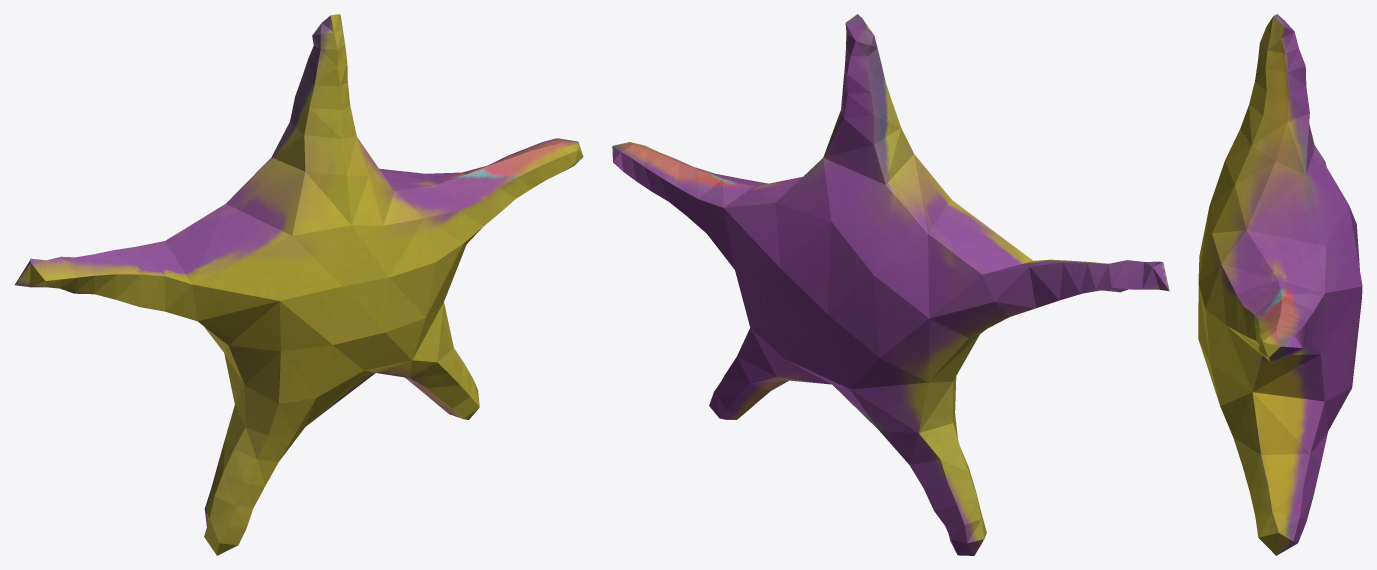
The model's file is Star_001.fbx.
The picture shows the model from 3 angles, left to right: view 1: azimuth 30°, elevation 25°; view 2: azimuth 150°, elevation 25°; view 3: azimuth 270°, elevation 25°; orthographic projection. The views are drawn at different scales.
Parts seen in each view (by area): view 1: Star.001; view 2: Star.001; view 3: Star.001.
Part boxes in pixels (box(x1,y1,x2,y2)): Star.001: box(14, 14, 583, 555); Star.001: box(612, 14, 1169, 555); Star.001: box(1198, 14, 1362, 555).
Size of the model in its own units: 26.45 by 23.12 by 6.23.
